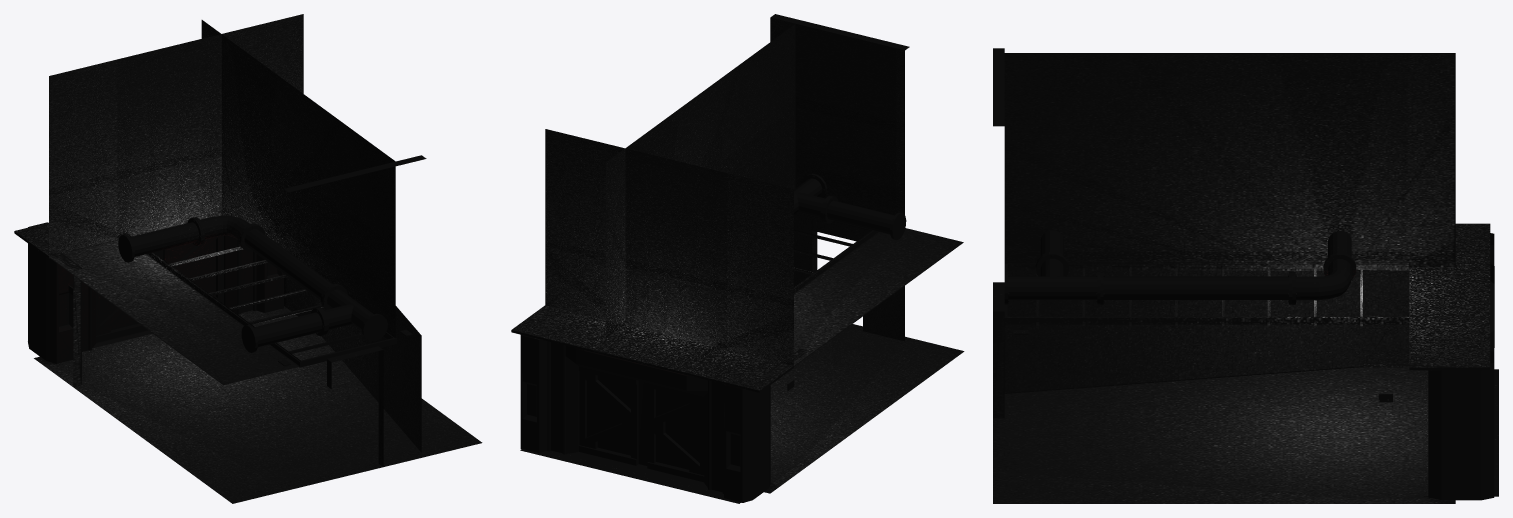
3 renders of one model, left to right at view 1: azimuth 30°, elevation 25°; view 2: azimuth 150°, elevation 25°; view 3: azimuth 270°, elevation 25°, orthographic. The views are drawn at different scales.
Parts seen in each view (by area): view 1: endroom2_opt.rmesh; view 2: endroom2_opt.rmesh; view 3: endroom2_opt.rmesh.
Part boxes in pixels (box(x1,y1,x2,y2)): endroom2_opt.rmesh: box(14, 14, 482, 503); endroom2_opt.rmesh: box(511, 14, 964, 503); endroom2_opt.rmesh: box(993, 48, 1498, 503).
Bounding box in the file's own units: 9.44 × 10.57 × 14.
1 material, 1 textured.
